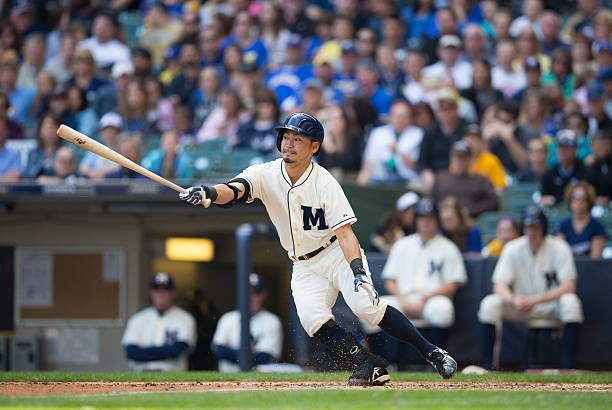bita: (54, 122, 215, 208)
